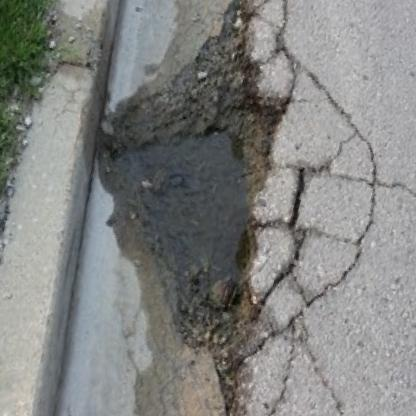pothole: (68, 25, 310, 350)
